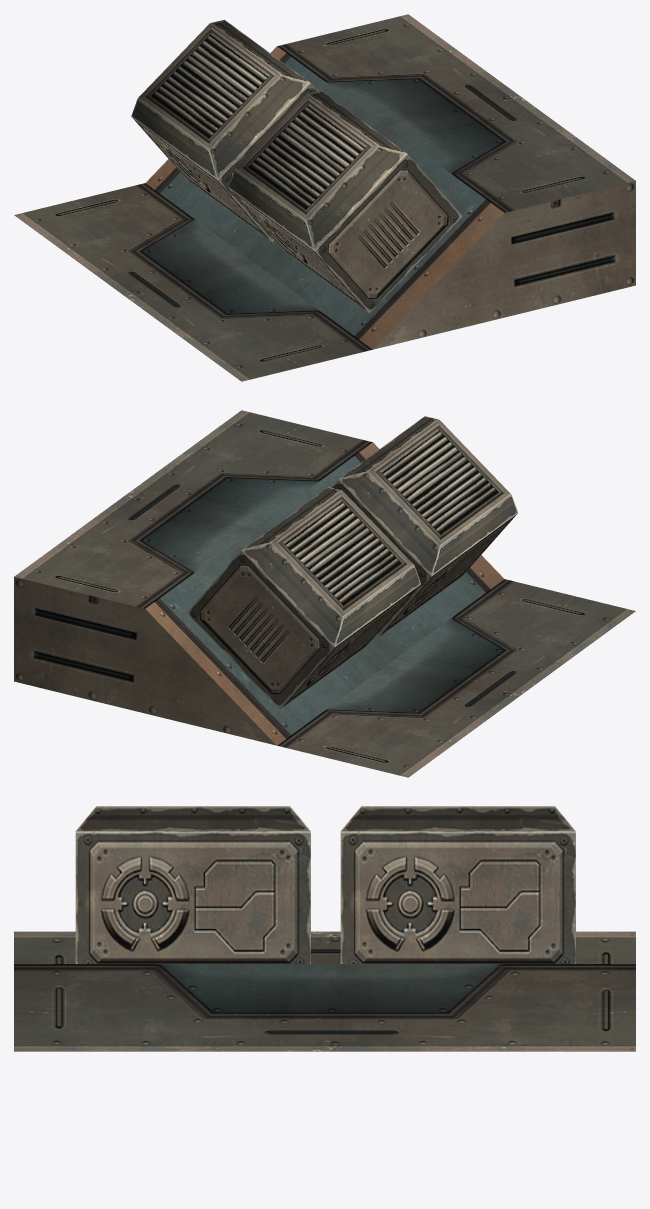
Rendered from mprw_ceiling_vents.FBX.
The picture shows the model from 3 angles, top to bottom: view 1: azimuth 30°, elevation 25°; view 2: azimuth 150°, elevation 25°; view 3: azimuth 270°, elevation 25°; orthographic projection. The views are drawn at different scales.
Visible parts, largest first — view 1: mprw_ceiling_vents; view 2: mprw_ceiling_vents; view 3: mprw_ceiling_vents.
Boxes of the visible parts, <box> form: mprw_ceiling_vents: <box>14,14,635,381</box>; mprw_ceiling_vents: <box>14,410,635,777</box>; mprw_ceiling_vents: <box>14,806,635,1051</box>.
Size of the model in its own units: 700 by 294 by 700.
Materials: 1 (1 with a texture image).
